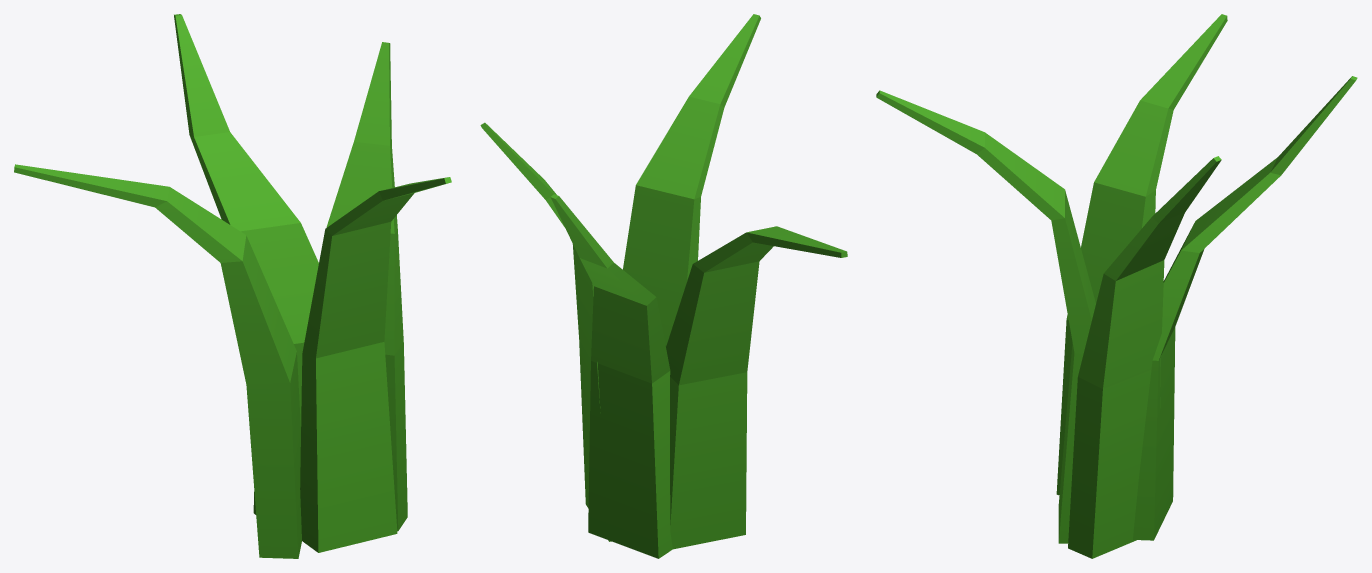
File: grass_8.fbx
3 renders of one model, left to right at view 1: azimuth 30°, elevation 25°; view 2: azimuth 150°, elevation 25°; view 3: azimuth 270°, elevation 25°, orthographic.
Parts seen in each view (by area): view 1: grass 8; view 2: grass 8; view 3: grass 8.
Boxes of the visible parts, left/top/right/bottom form: grass 8: left=14, top=14, right=451, bottom=558; grass 8: left=480, top=14, right=847, bottom=558; grass 8: left=876, top=14, right=1357, bottom=558.
Size of the model in its own units: 0.7556 by 0.6788 by 0.7525.
